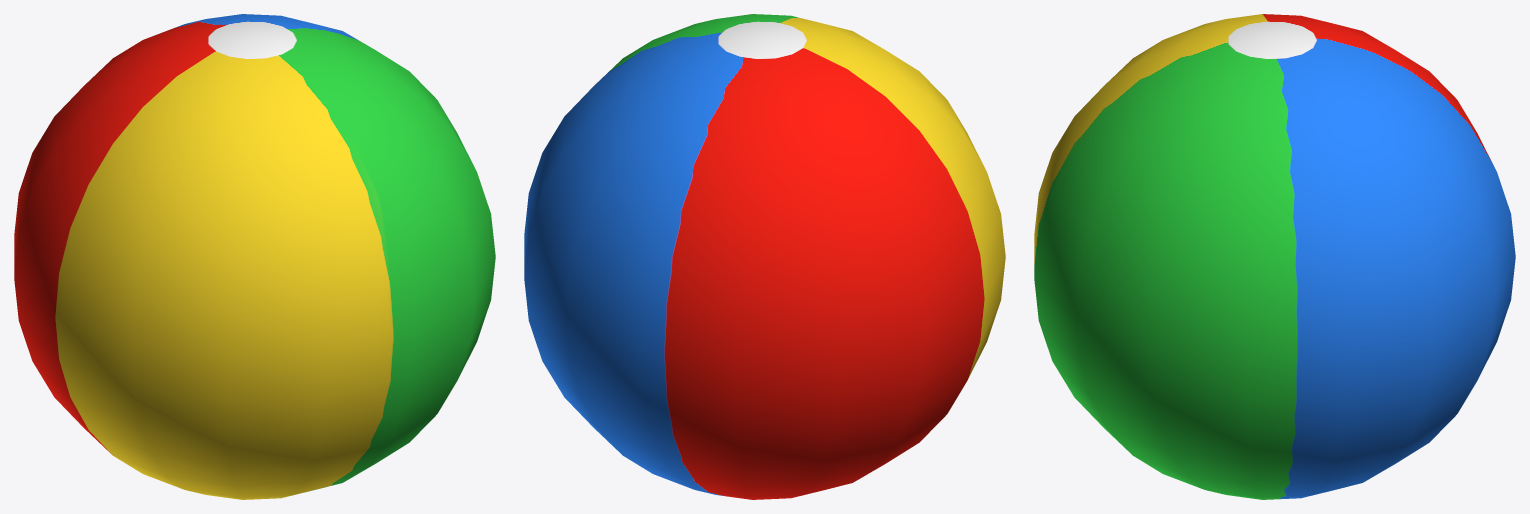
Rendered from beach ball.fbx.
The picture shows the model from 3 angles, left to right: view 1: azimuth 30°, elevation 25°; view 2: azimuth 150°, elevation 25°; view 3: azimuth 270°, elevation 25°; orthographic projection.
Visible parts, largest first — view 1: Sphere; view 2: Sphere; view 3: Sphere.
Part boxes in pixels (x1,y1,x2,y2): Sphere: (14,14,495,499); Sphere: (524,14,1005,499); Sphere: (1034,14,1515,499).
Bounding box in the file's own units: 214 × 216 × 213.
